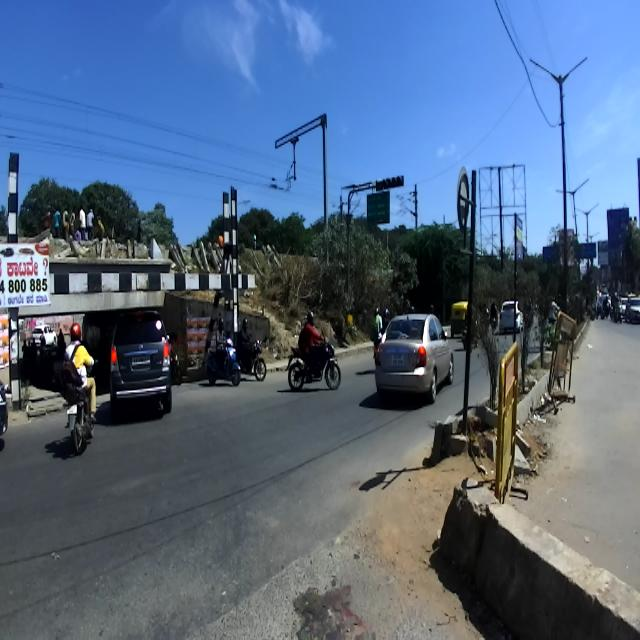car ahead at: (366, 303, 452, 410), (113, 306, 171, 412)
motorcycle ahead at: (287, 343, 346, 403)
